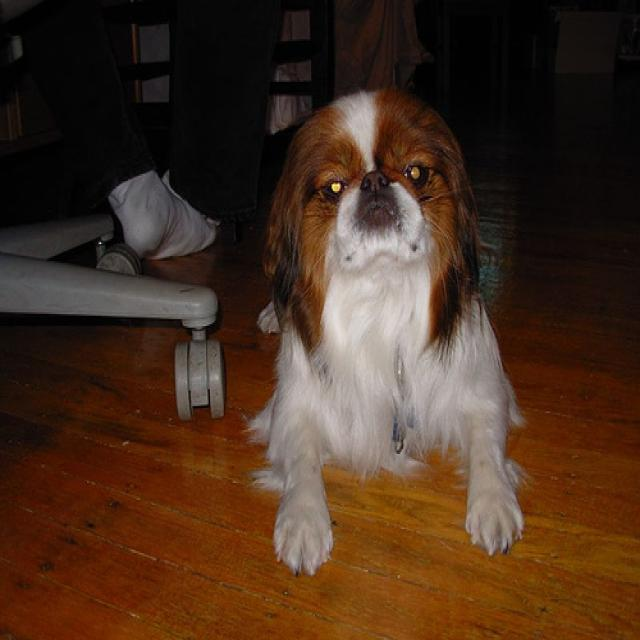dog: (267, 87, 468, 300)
